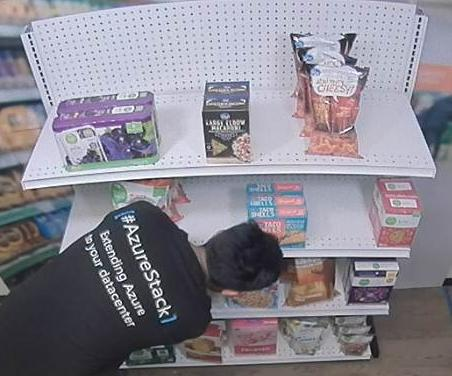stockout: (358, 70, 436, 168), (248, 76, 307, 161), (156, 77, 206, 163), (309, 178, 374, 244), (176, 178, 247, 238), (22, 97, 64, 175), (58, 187, 107, 250)
